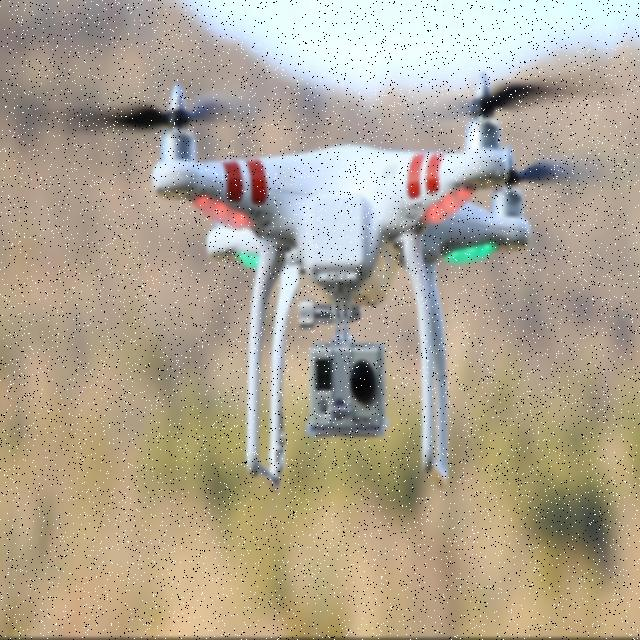UAV: (149, 78, 533, 493)
